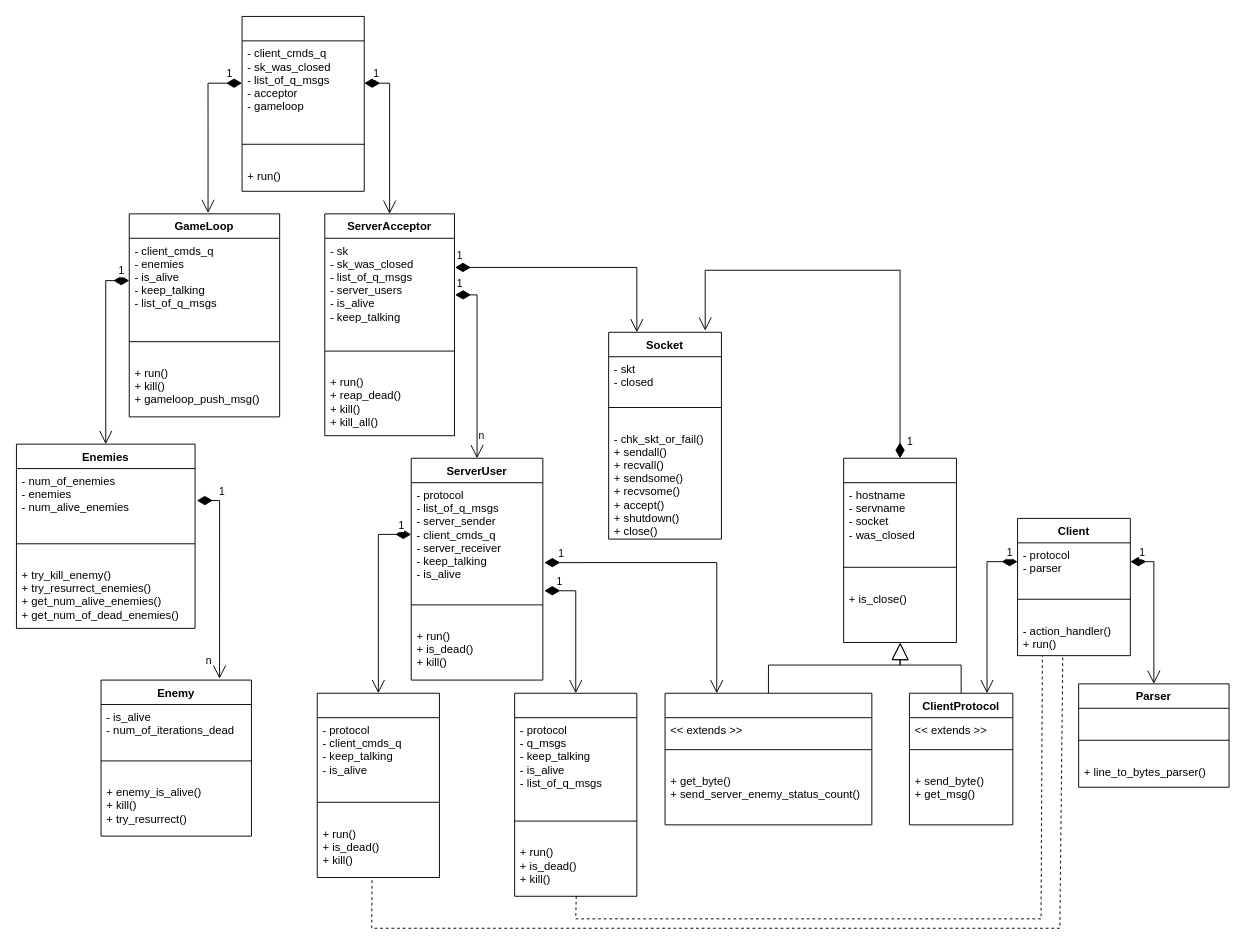
Some shapes in this 1246 by 946 pixel diagram are drawn without their labels. The shapes that lost their labels are listed below. From the top down, each one's box as (x1, y1, x2, y2) in pixels, then its label:
(241, 16, 364, 191): Server
(843, 457, 956, 642): Protocol
(664, 692, 872, 825): ServerProtocol
(316, 692, 439, 877): ServerReceiver
(514, 692, 637, 896): ServerSender
